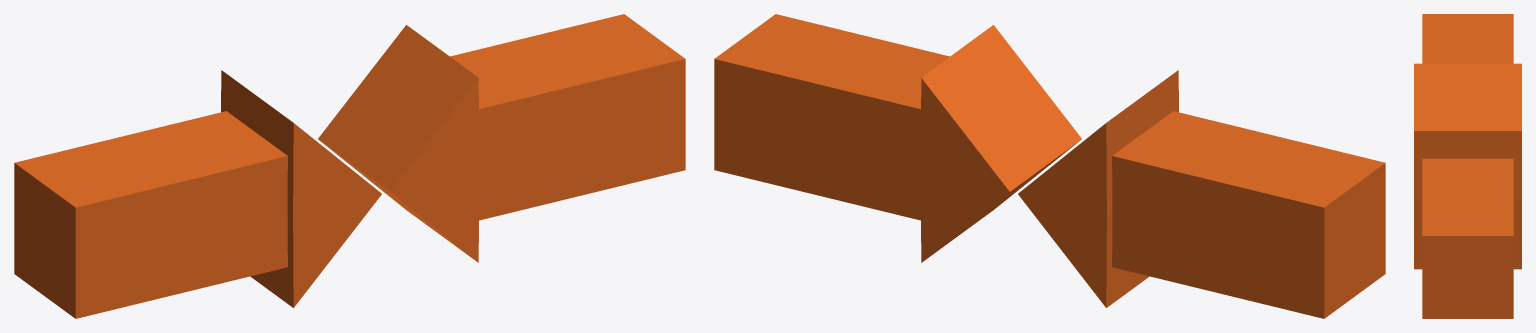
Rendered from shrinker.glb.
3 views of the same model, side by side, from view 1: azimuth 30°, elevation 25°; view 2: azimuth 150°, elevation 25°; view 3: azimuth 270°, elevation 25° (orthographic). The views are drawn at different scales.
Parts seen in each view (by area): view 1: shrinker; view 2: shrinker; view 3: shrinker.
Boxes of the visible parts, <box> form: shrinker: <box>14,14,685,318</box>; shrinker: <box>714,14,1385,318</box>; shrinker: <box>1414,14,1521,318</box>.
Bounding box in the file's own units: 1.97 × 0.571 × 0.4037.
